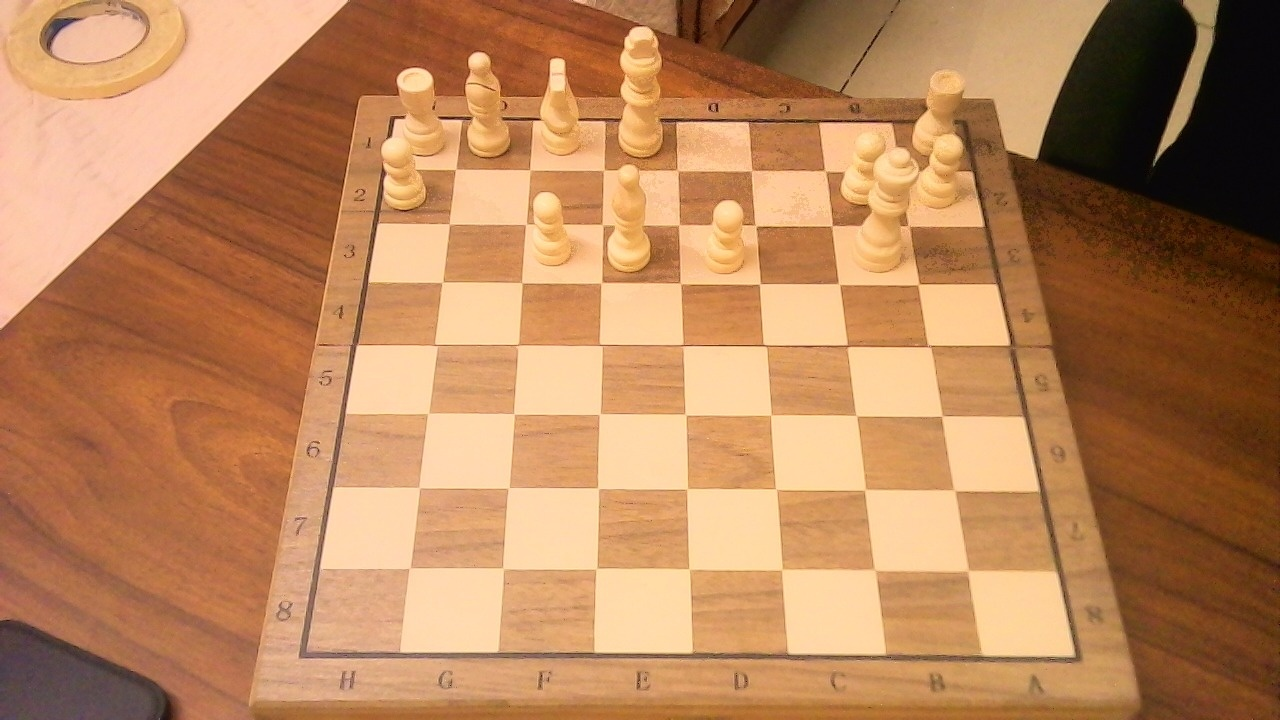B: (459, 41, 519, 161), (604, 154, 662, 275)
K: (610, 16, 672, 160)
N: (531, 47, 590, 160)
P: (834, 123, 899, 210), (696, 190, 753, 279), (377, 126, 433, 212), (525, 183, 578, 271), (920, 125, 972, 212)
Q: (846, 135, 925, 278)
R: (908, 58, 971, 160), (392, 57, 451, 160)
